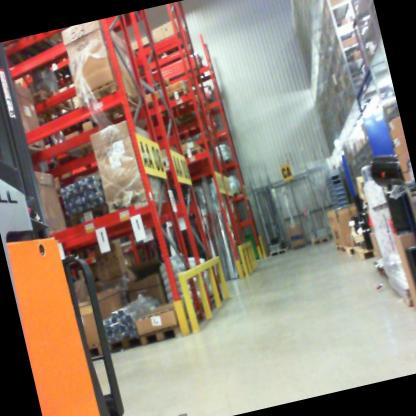forklift: (0, 22, 191, 416)
pallet: (74, 77, 143, 131), (24, 76, 77, 122), (141, 317, 197, 347), (163, 86, 199, 118), (105, 332, 144, 357), (178, 142, 212, 170), (351, 241, 381, 265), (26, 135, 52, 161), (83, 338, 109, 359), (269, 245, 293, 260), (346, 241, 364, 257), (312, 233, 332, 247), (335, 242, 349, 256)
